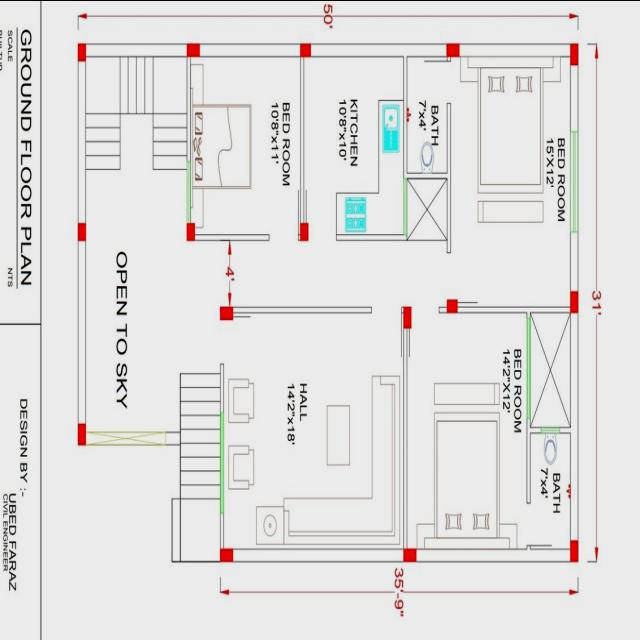Blueprint: (70, 34, 582, 571)
column: (399, 299, 415, 337), (566, 35, 582, 71), (399, 542, 421, 568), (182, 36, 204, 60), (182, 216, 198, 248), (566, 532, 580, 568), (216, 300, 236, 324), (216, 541, 236, 565), (75, 36, 90, 67), (74, 216, 90, 245), (444, 38, 463, 62), (75, 416, 88, 450), (443, 292, 461, 316), (298, 214, 312, 244), (568, 285, 580, 317), (298, 38, 314, 60)
wall: (232, 548, 404, 562), (416, 548, 570, 562), (311, 42, 447, 56), (570, 312, 578, 540), (459, 42, 572, 57), (77, 238, 86, 423), (86, 42, 188, 58), (199, 42, 300, 58), (77, 60, 86, 224), (457, 304, 571, 314), (233, 304, 372, 312), (403, 328, 408, 550), (300, 58, 304, 224), (447, 101, 451, 252), (195, 232, 270, 240), (570, 62, 578, 132), (336, 233, 408, 240), (403, 55, 407, 179), (570, 230, 578, 290), (187, 56, 191, 160), (220, 362, 226, 416), (408, 170, 448, 178), (165, 431, 181, 445), (220, 511, 224, 550)
